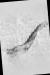F16: (2, 0, 49, 74)
